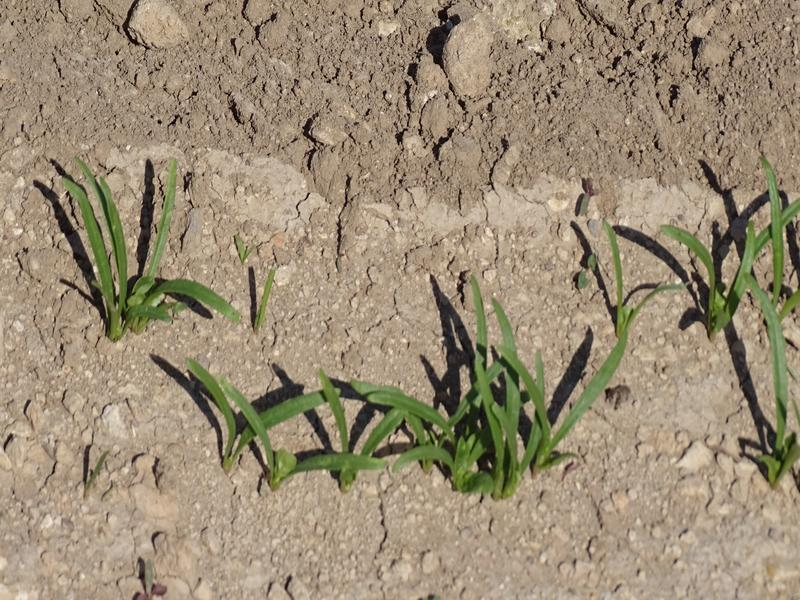Espinaca: (185, 316, 625, 499), (608, 218, 800, 477), (44, 153, 247, 332)
